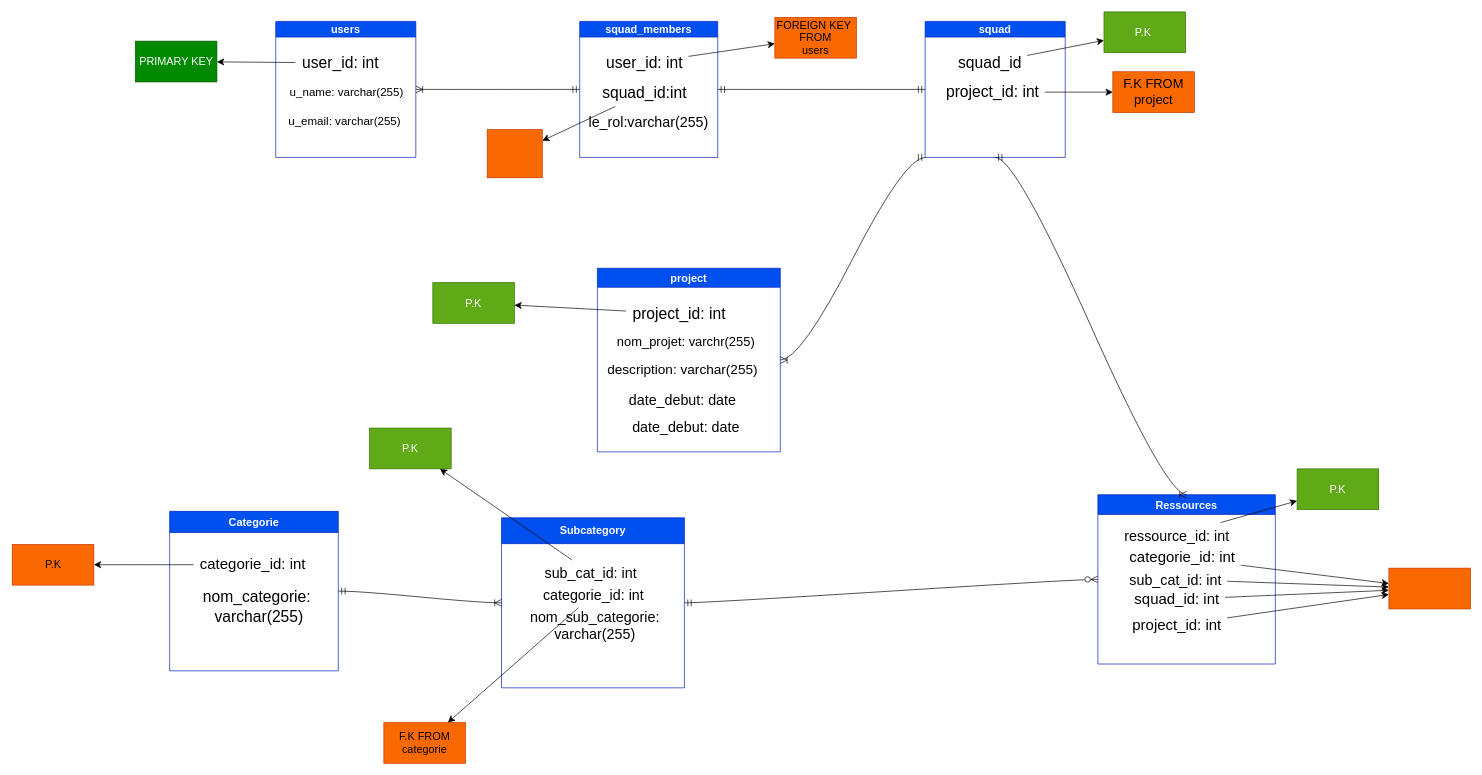
The diagram is 1482 pixels wide and 775 high, and some of its shapes have lost their labels. Each missing label, with the centre of its shape:
F.K: the point at 1429,588
foreign key from squad: the point at 514,153
